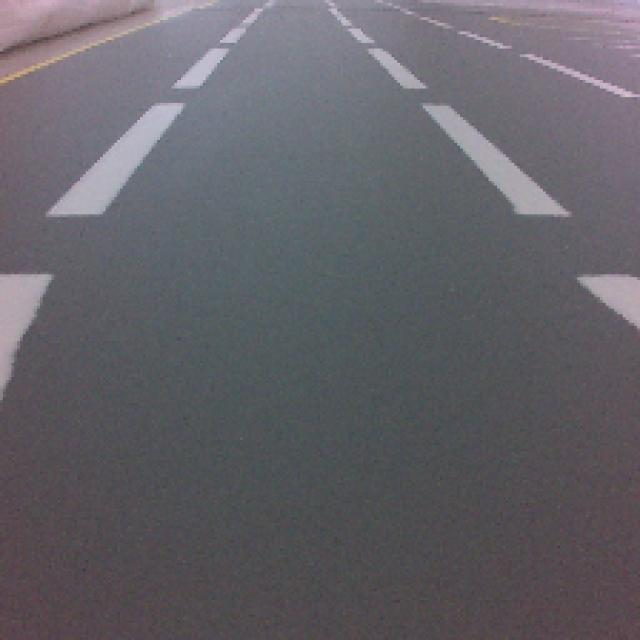Road: (1, 323, 639, 640)
